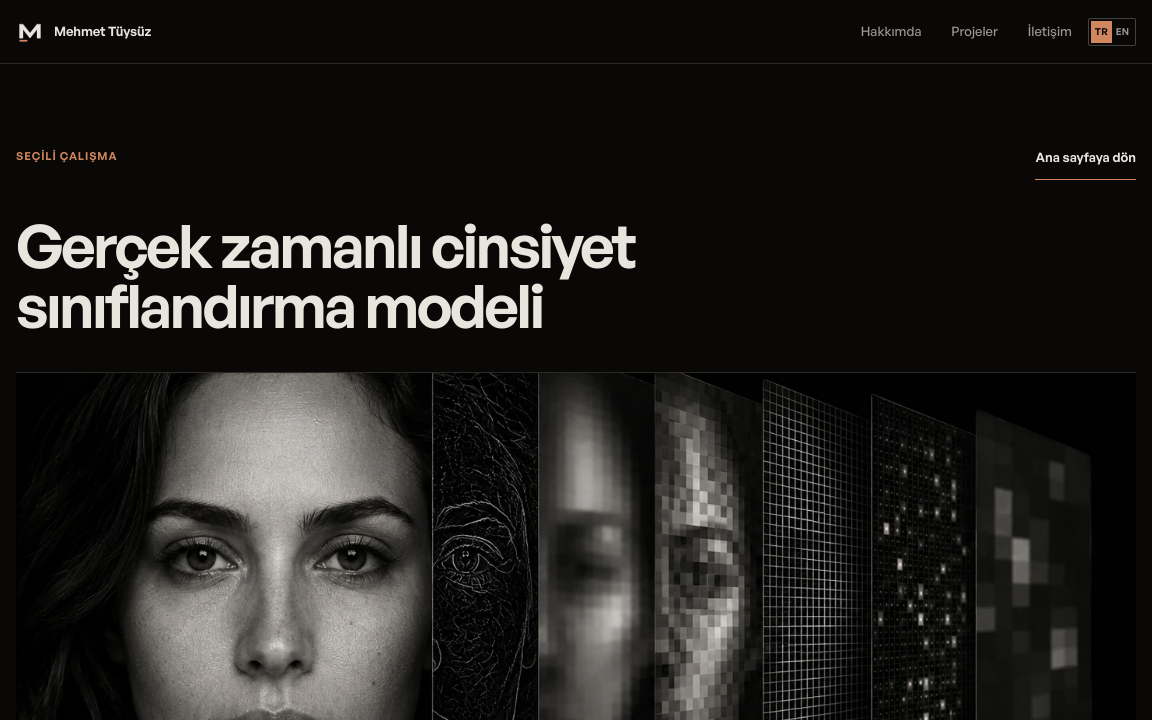
Test case: localized portfolio application › switches locale on direct and modal projects without polluting history
This screenshot has width=1152, height=720.
Click the radio button with aria-label "English" at (1122, 32), box [1112, 21, 1133, 43]
(page scrolled)
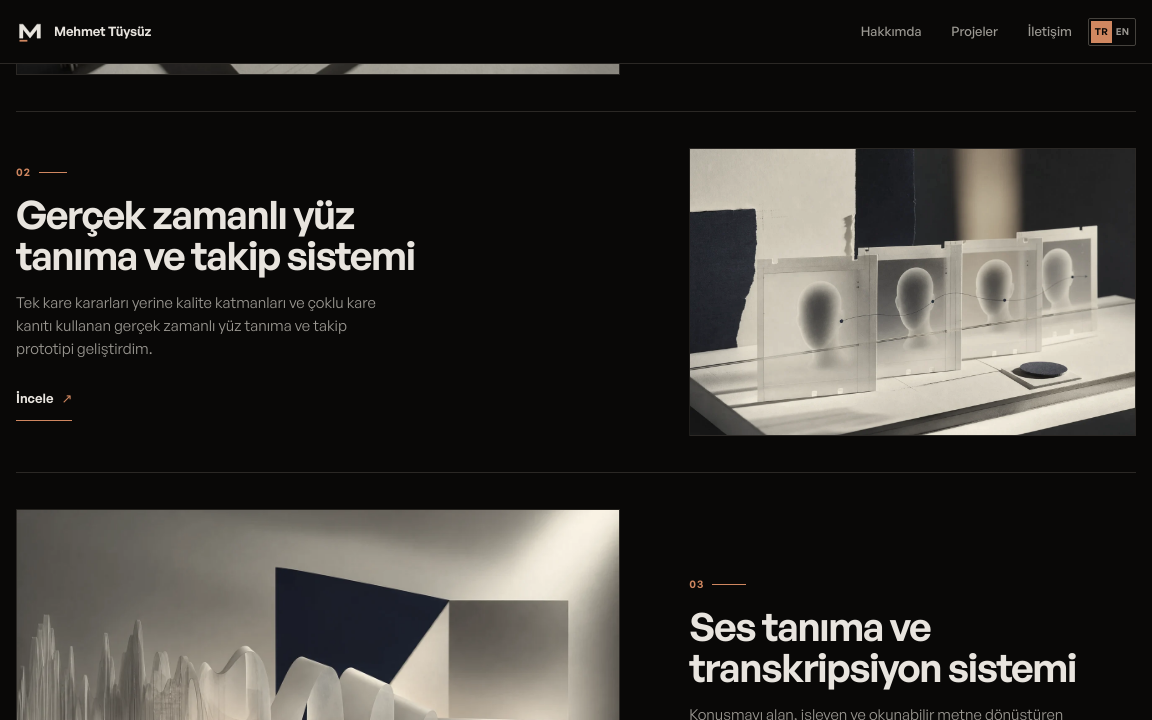
Now the link "İncele" is shown
Click the link "İncele" at (44, 399), box [16, 377, 72, 421]
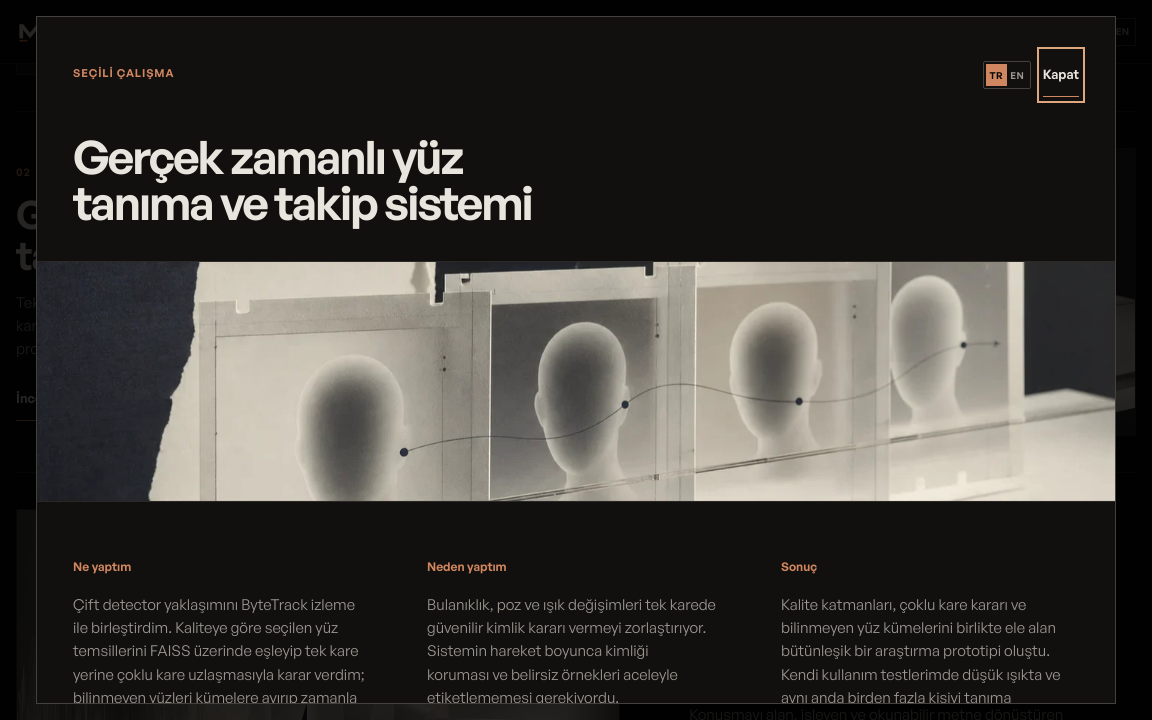
Now the dialog is shown
Click the radio button with aria-label "English" at (1017, 75), box [1007, 64, 1028, 86]
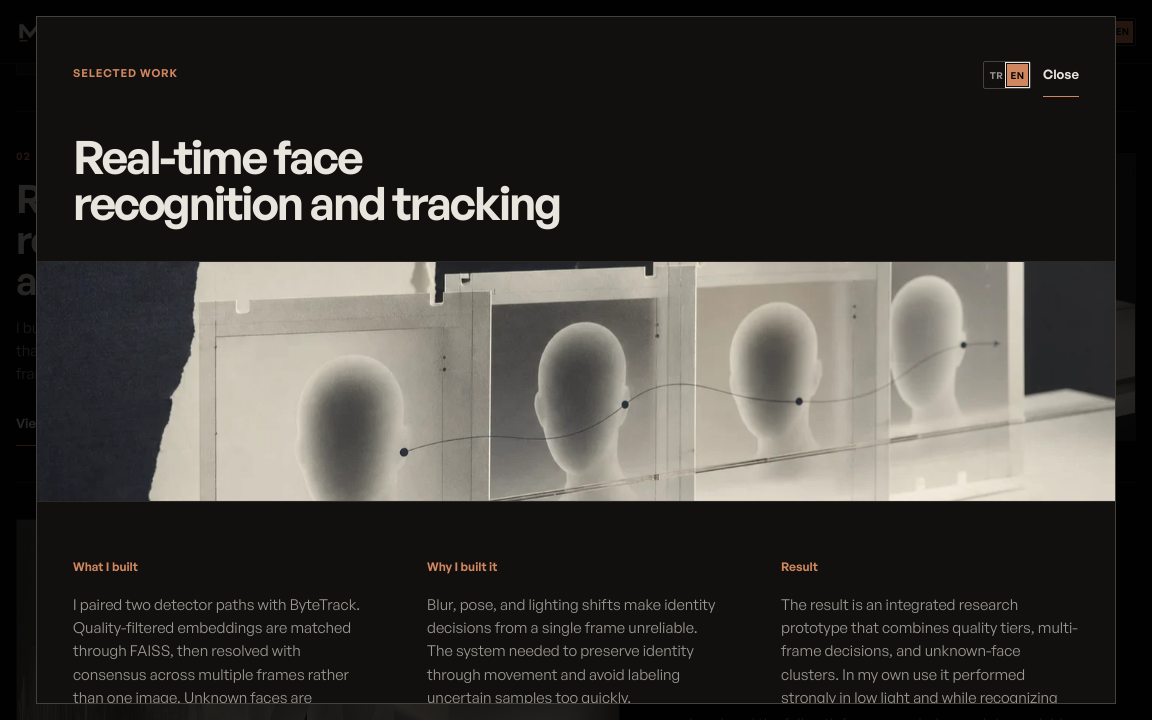
Click the button "Close" at (1061, 75), box [1043, 53, 1079, 97]
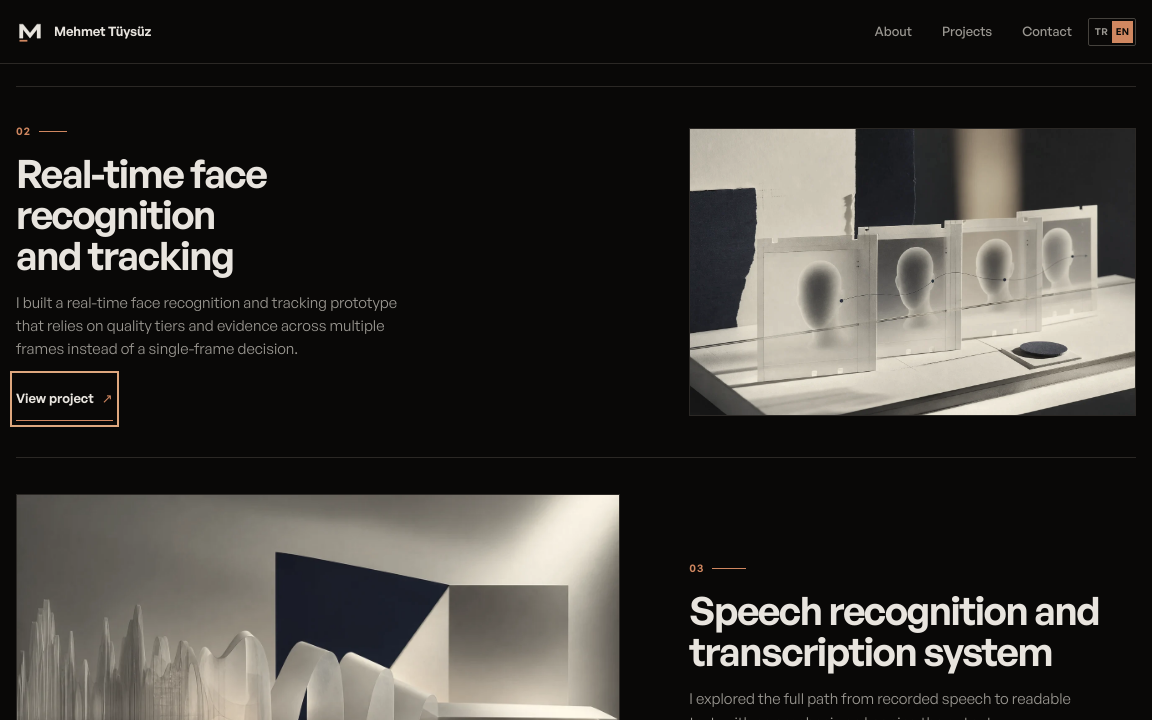
Now the dialog is gone
